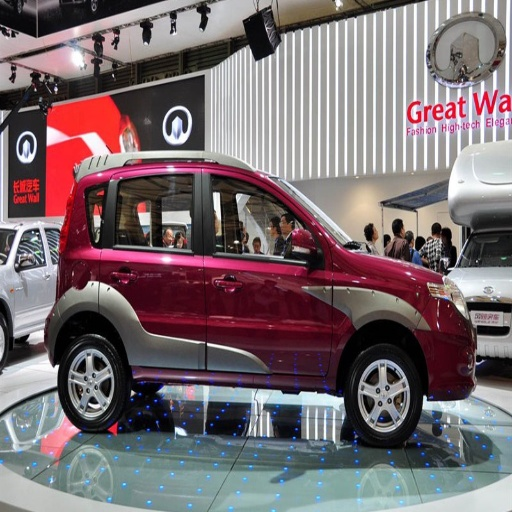front_right_door: (205, 166, 332, 380)
